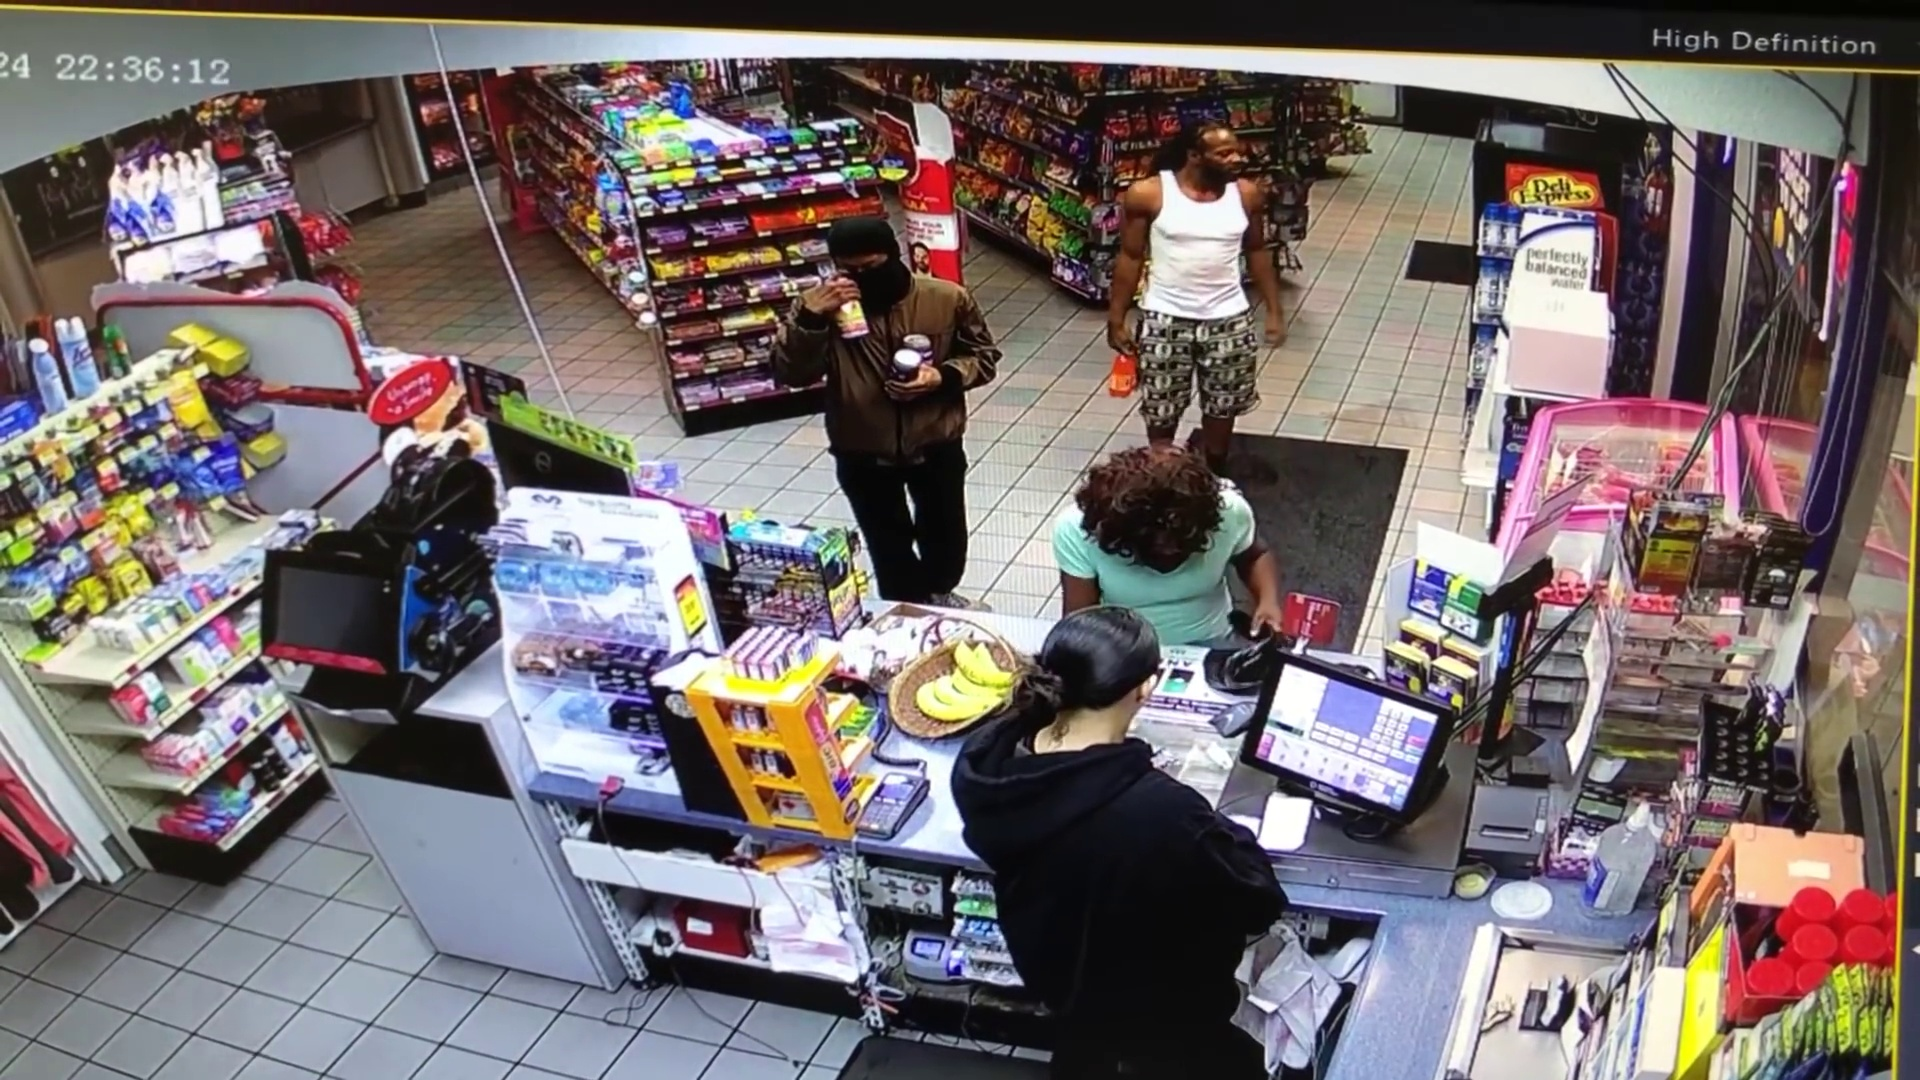face: (828, 247, 887, 295), (1198, 129, 1238, 183)
